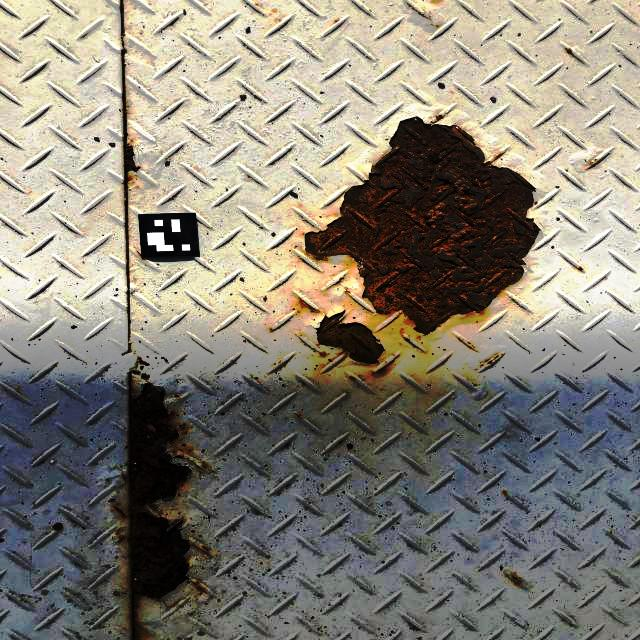Corrosion: (304, 117, 540, 335), (128, 373, 191, 640), (315, 310, 385, 364), (124, 140, 142, 188), (294, 300, 321, 314), (112, 505, 129, 519), (191, 580, 208, 593), (485, 353, 502, 366), (372, 363, 390, 375), (340, 285, 353, 296), (511, 574, 524, 585), (465, 340, 477, 349), (587, 158, 599, 166), (434, 114, 444, 122), (201, 544, 210, 552), (563, 47, 573, 54), (296, 413, 302, 420), (577, 265, 583, 271), (321, 352, 327, 357), (269, 327, 273, 331)
